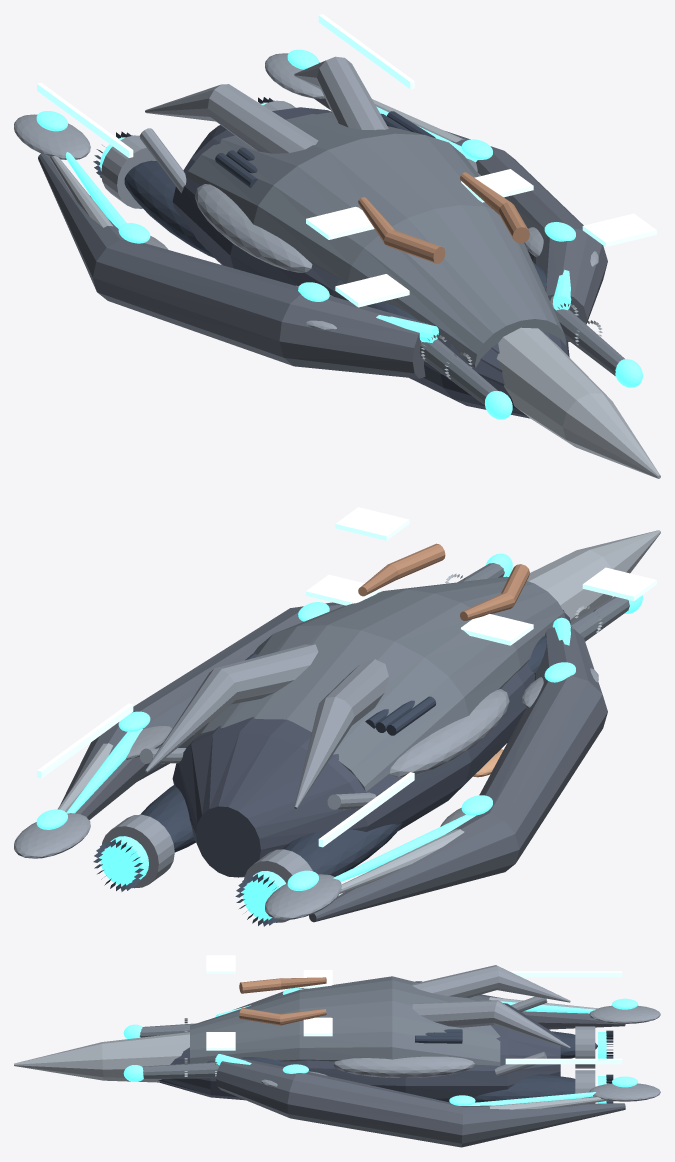
File: npc_saimon.glb
3 renders of one model, top to bottom at view 1: azimuth 30°, elevation 25°; view 2: azimuth 150°, elevation 25°; view 3: azimuth 270°, elevation 25°, orthographic. The views are drawn at different scales.
Parts seen in each view (by area): view 1: upper_armor_scar, armored_scythe_-1, zyron_stinger, V59 trim baked, keel_pressure_hull, armored_scythe_1, zyron_upper_blade_-1, heavy_shield_pad_-1, zyron_upper_blade_1, engine_armor_-1, scythe_plate_-1_2, long_plasma_cannon_-1 (+9 smaller); view 2: upper_armor_scar, keel_pressure_hull, armored_scythe_-1, V59 trim baked, armored_scythe_1, zyron_upper_blade_1, zyron_upper_blade_-1, zyron_stinger, heavy_shield_pad_-1, engine_armor_-1, exhaust_coil_1, scythe_plate_1_2 (+15 smaller); view 3: upper_armor_scar, armored_scythe_1, keel_pressure_hull, zyron_stinger, V59 trim baked, zyron_upper_blade_1, zyron_upper_blade_-1, heavy_shield_pad_1, engine_armor_1, armored_scythe_-1, long_plasma_cannon_1, scythe_plate_-1_2 (+13 smaller).
Part boxes in pixels (box(x1,y1,x2,y2)): upper_armor_scar: box(186, 112, 566, 367); armored_scythe_-1: box(38, 153, 429, 378); zyron_stinger: box(496, 327, 660, 478); V59 trim baked: box(37, 14, 656, 307); keel_pressure_hull: box(172, 107, 569, 418); armored_scythe_1: box(314, 98, 607, 342); zyron_upper_blade_-1: box(145, 84, 318, 153); heavy_shield_pad_-1: box(195, 184, 312, 272); zyron_upper_blade_1: box(294, 56, 388, 130); engine_armor_-1: box(124, 160, 215, 258); scythe_plate_-1_2: box(14, 114, 90, 159); long_plasma_cannon_-1: box(419, 339, 497, 404); upper_armor_scar: box(186, 576, 565, 791); keel_pressure_hull: box(172, 610, 570, 877); armored_scythe_-1: box(309, 627, 607, 922); V59 trim baked: box(37, 507, 656, 847); armored_scythe_1: box(60, 602, 344, 820); zyron_upper_blade_1: box(145, 644, 318, 772); zyron_upper_blade_-1: box(294, 659, 388, 808); zyron_stinger: box(527, 530, 660, 622); heavy_shield_pad_-1: box(389, 689, 509, 777); engine_armor_-1: box(283, 823, 403, 876); exhaust_coil_1: box(102, 814, 174, 888); scythe_plate_1_2: box(14, 813, 90, 858); upper_armor_scar: box(190, 976, 500, 1065); armored_scythe_1: box(216, 1056, 625, 1147); keel_pressure_hull: box(158, 1003, 560, 1102); zyron_stinger: box(14, 1032, 189, 1082); V59 trim baked: box(206, 955, 622, 1064); zyron_upper_blade_1: box(412, 1000, 570, 1048); zyron_upper_blade_-1: box(412, 965, 570, 1002); heavy_shield_pad_1: box(333, 1056, 474, 1077); engine_armor_1: box(474, 1074, 575, 1102); armored_scythe_-1: box(233, 988, 625, 1029); long_plasma_cannon_1: box(142, 1062, 219, 1078); scythe_plate_-1_2: box(589, 1005, 660, 1023).
Bounding box in the file's own units: 2.48 × 0.9993 × 5.13.
